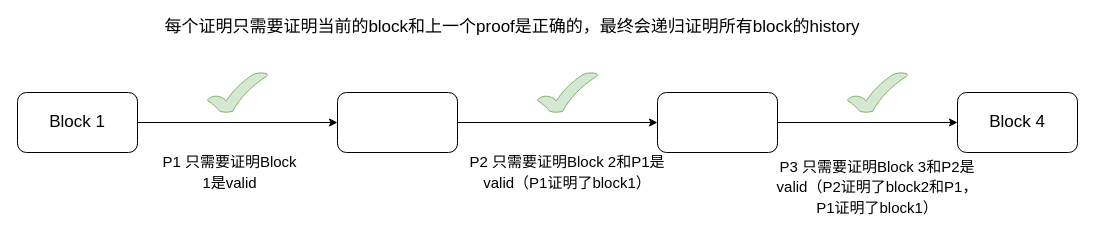
The diagram is 1095 pixels wide and 239 high, and some of its shapes have lost their labels. Each missing label, with the box of its shape:
Block 2: (336, 92, 458, 152)
Block 3: (656, 92, 778, 152)
